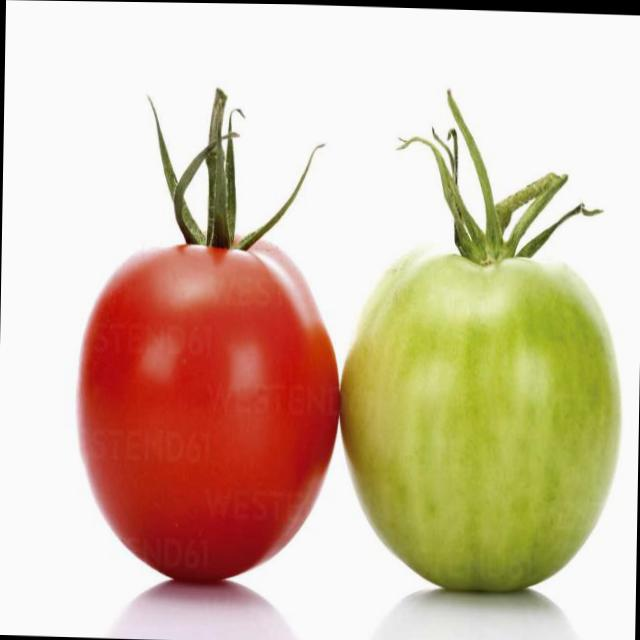tomato: (74, 241, 344, 589)
